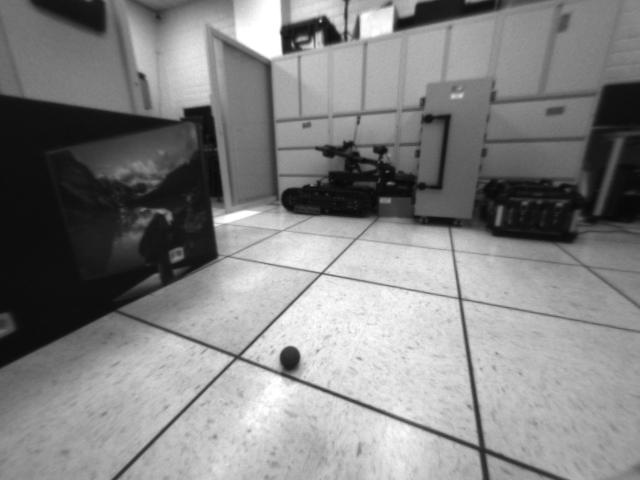dogtoy: (274, 341, 307, 374)
